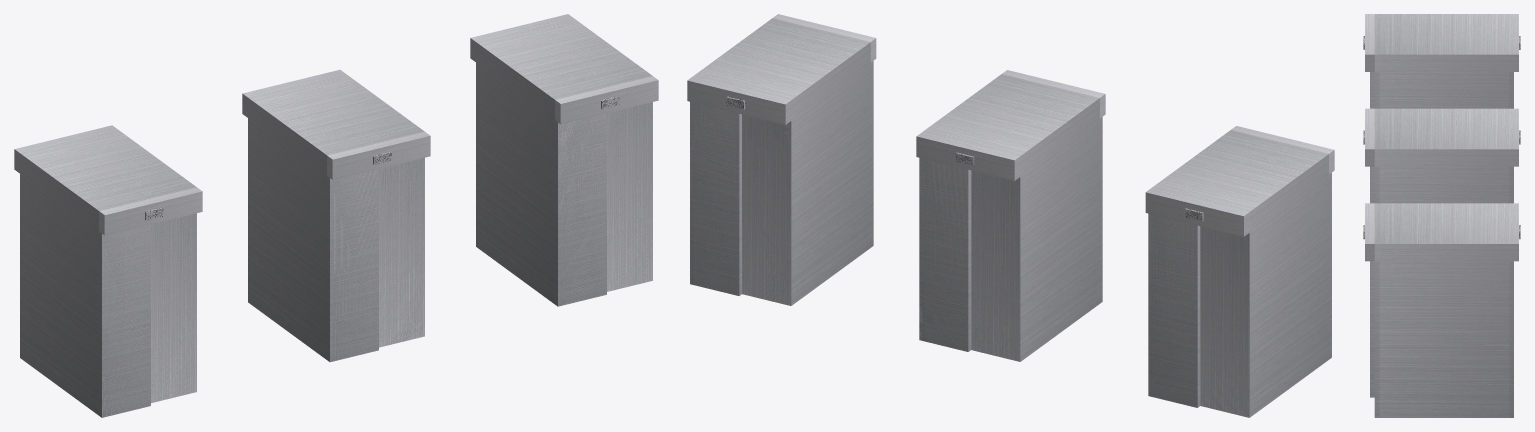
Rendered from lifts.fbx.
3 renders of one model, left to right at view 1: azimuth 30°, elevation 25°; view 2: azimuth 150°, elevation 25°; view 3: azimuth 270°, elevation 25°, orthographic. The views are drawn at different scales.
Parts seen in each view (by area): view 1: lift2, lift3, lift1, Group2, Group6, Group10, Group9, Group1, Group5; view 2: lift3, lift2, lift1, Group11, Group3, Group4, Group12, Group7, Group8, Group6; view 3: lift2, lift3, lift1, Group5, Group7, Group6, Group9, Group1, Group10, Group11, Group2, Group3.
Part boxes in pixels (left/top/right/bottom): lift2: left=470, top=14, right=658, bottom=304; lift3: left=242, top=69, right=430, bottom=359; lift1: left=14, top=125, right=202, bottom=415; Group2: left=99, top=224, right=150, bottom=417; Group6: left=555, top=113, right=606, bottom=306; Group10: left=327, top=169, right=378, bottom=362; Group9: left=379, top=157, right=424, bottom=347; Group1: left=151, top=213, right=196, bottom=402; Group5: left=607, top=102, right=652, bottom=291; lift3: left=916, top=70, right=1105, bottom=361; lift2: left=687, top=14, right=876, bottom=304; lift1: left=1145, top=126, right=1334, bottom=415; Group11: left=919, top=157, right=971, bottom=351; Group3: left=1148, top=213, right=1200, bottom=407; Group4: left=1200, top=226, right=1252, bottom=417; Group12: left=971, top=170, right=1023, bottom=361; Group7: left=690, top=102, right=741, bottom=295; Group8: left=742, top=114, right=793, bottom=305; Group6: left=870, top=61, right=873, bottom=247; lift2: left=1363, top=203, right=1520, bottom=417; lift3: left=1363, top=108, right=1520, bottom=203; lift1: left=1363, top=14, right=1520, bottom=108; Group5: left=1374, top=261, right=1379, bottom=417; Group7: left=1509, top=261, right=1513, bottom=417; Group6: left=1370, top=261, right=1374, bottom=397; Group9: left=1374, top=166, right=1379, bottom=203; Group1: left=1374, top=72, right=1379, bottom=108; Group10: left=1370, top=166, right=1374, bottom=203; Group11: left=1509, top=166, right=1513, bottom=203; Group2: left=1370, top=72, right=1374, bottom=108; Group3: left=1509, top=72, right=1513, bottom=108.
Size of the model in its own units: 5.66 by 2 by 1.64.
